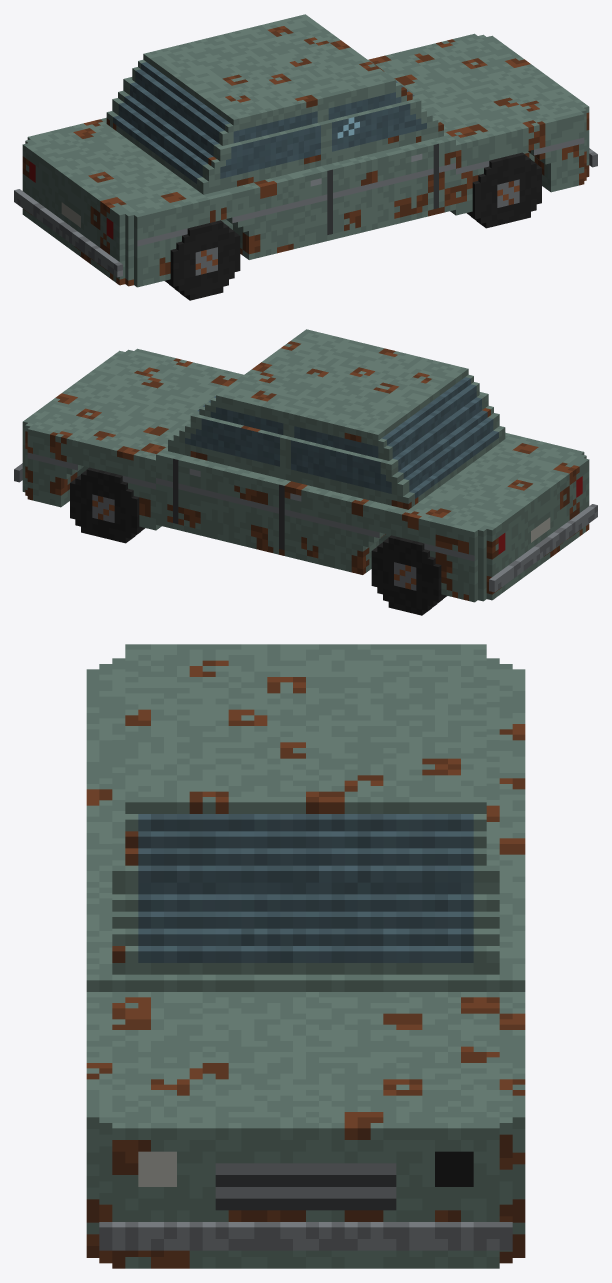
The model's file is epave_voiture.glb.
3 views of the same model, one above another, from view 1: azimuth 30°, elevation 25°; view 2: azimuth 150°, elevation 25°; view 3: azimuth 270°, elevation 25° (orthographic). The views are drawn at different scales.
Visible parts, largest first — view 1: voxel__epave_voiture__block; view 2: voxel__epave_voiture__block; view 3: voxel__epave_voiture__block.
Part boxes in pixels (x1,y1,x2,y2): voxel__epave_voiture__block: (14, 14, 597, 300); voxel__epave_voiture__block: (14, 329, 597, 615); voxel__epave_voiture__block: (86, 644, 525, 1268).
Bounding box in the file's own units: 4.3 × 1.4 × 1.7.
